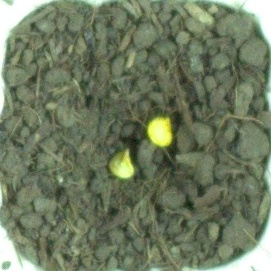pepper seed: (59, 41, 233, 189), (37, 56, 176, 237)
